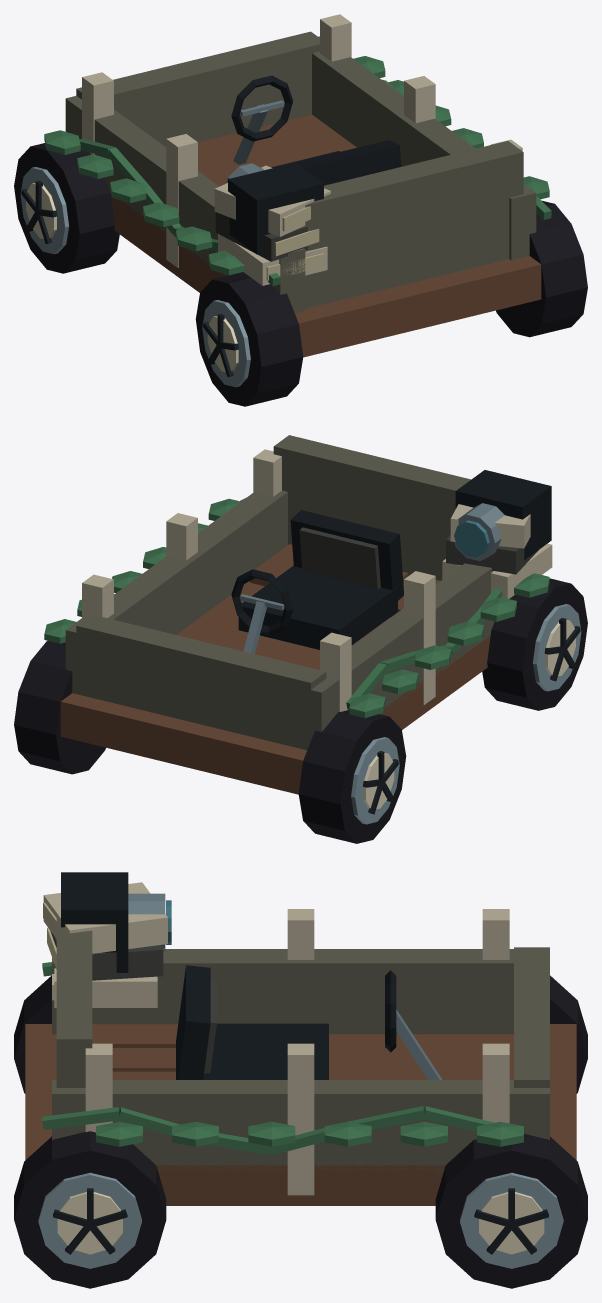
The model's file is kart.glb.
3 renders of one model, top to bottom at view 1: azimuth 30°, elevation 25°; view 2: azimuth 150°, elevation 25°; view 3: azimuth 270°, elevation 25°, orthographic. The views are drawn at different scales.
Visible parts, largest first — view 1: identity-wagon-wagon-timber-coach, wheel-rear-left, wheel-front-left, identity-wagon-motif-vines, wheel-rear-right, identity-wagon-motif-books, identity-wagon-driver-cockpit, identity-wagon-motif-camera; view 2: identity-wagon-wagon-timber-coach, identity-wagon-driver-cockpit, wheel-front-left, wheel-rear-left, identity-wagon-motif-vines, wheel-front-right, identity-wagon-motif-camera, identity-wagon-motif-books; view 3: identity-wagon-wagon-timber-coach, wheel-rear-right, wheel-front-right, identity-wagon-driver-cockpit, identity-wagon-motif-vines, identity-wagon-motif-books, identity-wagon-motif-camera, wheel-front-left, wheel-rear-left.
Boxes of the visible parts, bbox=[...] form: identity-wagon-wagon-timber-coach: bbox=[65, 14, 541, 357]; wheel-rear-left: bbox=[195, 272, 303, 406]; wheel-front-left: bbox=[14, 143, 119, 273]; identity-wagon-motif-vines: bbox=[44, 56, 551, 286]; wheel-rear-right: bbox=[496, 200, 587, 337]; identity-wagon-motif-books: bbox=[214, 165, 330, 285]; identity-wagon-driver-cockpit: bbox=[231, 75, 401, 185]; identity-wagon-motif-camera: bbox=[226, 163, 323, 254]; identity-wagon-wagon-timber-coach: bbox=[60, 435, 494, 794]; identity-wagon-driver-cockpit: bbox=[231, 510, 403, 653]; wheel-front-left: bbox=[298, 710, 406, 843]; wheel-rear-left: bbox=[482, 578, 587, 710]; identity-wagon-motif-vines: bbox=[44, 498, 549, 717]; wheel-front-right: bbox=[14, 641, 105, 774]; identity-wagon-motif-camera: bbox=[454, 470, 551, 561]; identity-wagon-motif-books: bbox=[442, 504, 552, 598]; identity-wagon-wagon-timber-coach: bbox=[25, 909, 576, 1205]; wheel-rear-right: bbox=[14, 1131, 166, 1288]; wheel-front-right: bbox=[435, 1133, 587, 1288]; identity-wagon-driver-cockpit: bbox=[176, 965, 442, 1079]; identity-wagon-motif-vines: bbox=[42, 962, 523, 1155]; identity-wagon-motif-books: bbox=[43, 882, 167, 1007]; identity-wagon-motif-camera: bbox=[61, 872, 171, 972]; wheel-front-left: bbox=[550, 975, 587, 1093]; wheel-rear-left: bbox=[14, 975, 51, 1093].
Size of the model in its own units: 2.07 by 1.18 by 2.56.
